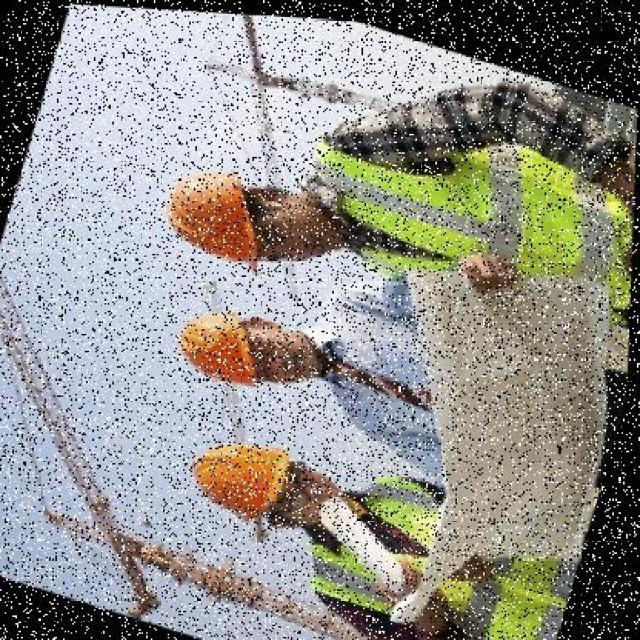helmet: (154, 136, 284, 265), (179, 409, 310, 531), (169, 295, 277, 387)
vest: (320, 109, 636, 335), (305, 468, 588, 639)
